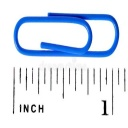Metal: (9, 7, 128, 60)
